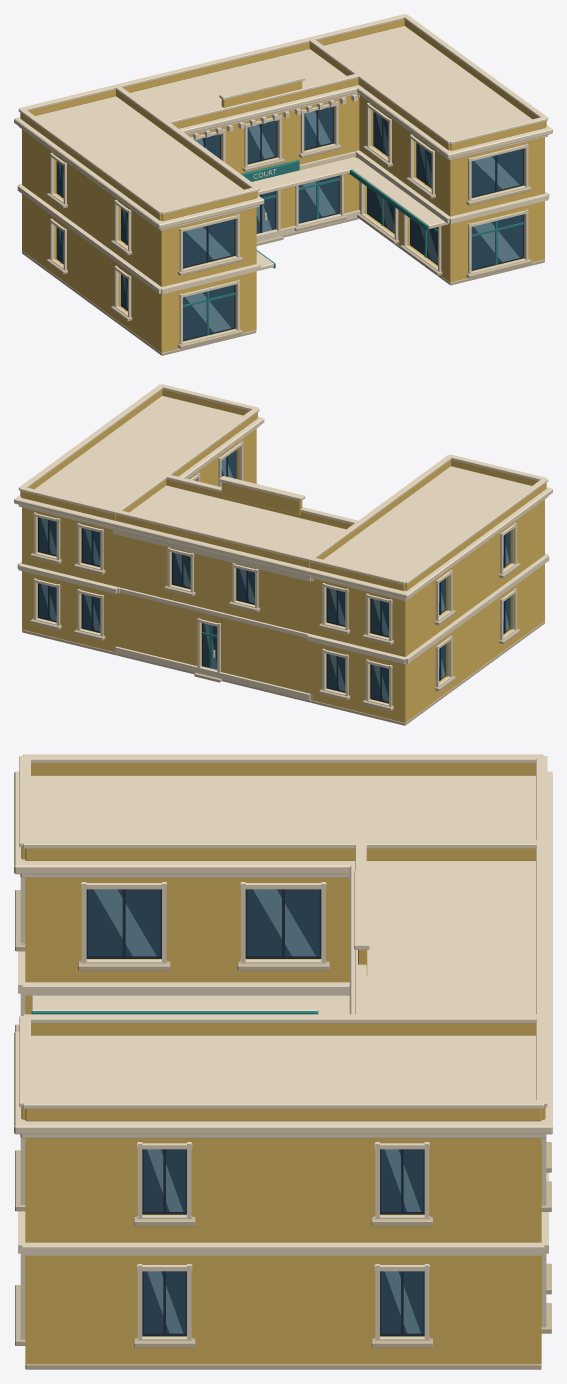
Rendered from courtyard_shopping_centre.glb.
The picture shows the model from 3 angles, top to bottom: view 1: azimuth 30°, elevation 25°; view 2: azimuth 150°, elevation 25°; view 3: azimuth 270°, elevation 25°; orthographic projection. The views are drawn at different scales.
Parts seen in each view (by area): view 1: CourtyardShoppingCentre_StaticMesh; view 2: CourtyardShoppingCentre_StaticMesh; view 3: CourtyardShoppingCentre_StaticMesh.
Part boxes in pixels (x1=…): CourtyardShoppingCentre_StaticMesh: x1=14, y1=14, x2=552, y2=355; CourtyardShoppingCentre_StaticMesh: x1=14, y1=384, x2=552, y2=725; CourtyardShoppingCentre_StaticMesh: x1=14, y1=754, x2=552, y2=1369.
Size of the model in its own units: 19.52 by 7.41 by 12.52.
